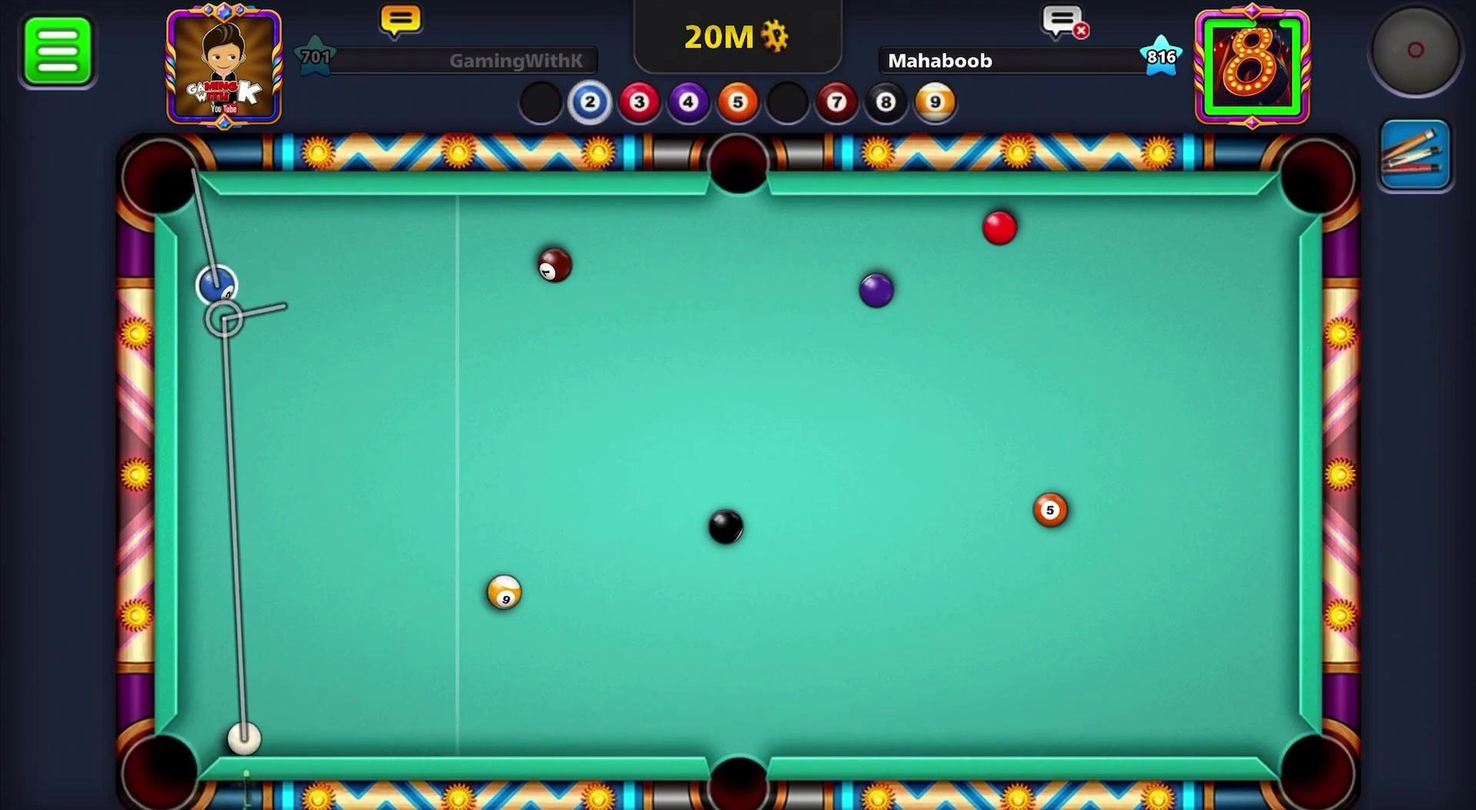Ball: (698, 504, 751, 550), (481, 568, 527, 615), (855, 267, 898, 313), (1030, 486, 1071, 532), (978, 207, 1022, 248), (530, 245, 575, 284), (195, 263, 236, 304)
Guideline: (193, 177, 287, 755)
Hole: (108, 129, 211, 233), (1268, 134, 1364, 232), (1266, 719, 1364, 809), (115, 727, 205, 809), (698, 123, 784, 203), (697, 738, 779, 809)
Play_Area: (184, 194, 1297, 755)
Spin: (1358, 2, 1474, 112)
White: (222, 719, 262, 755)
